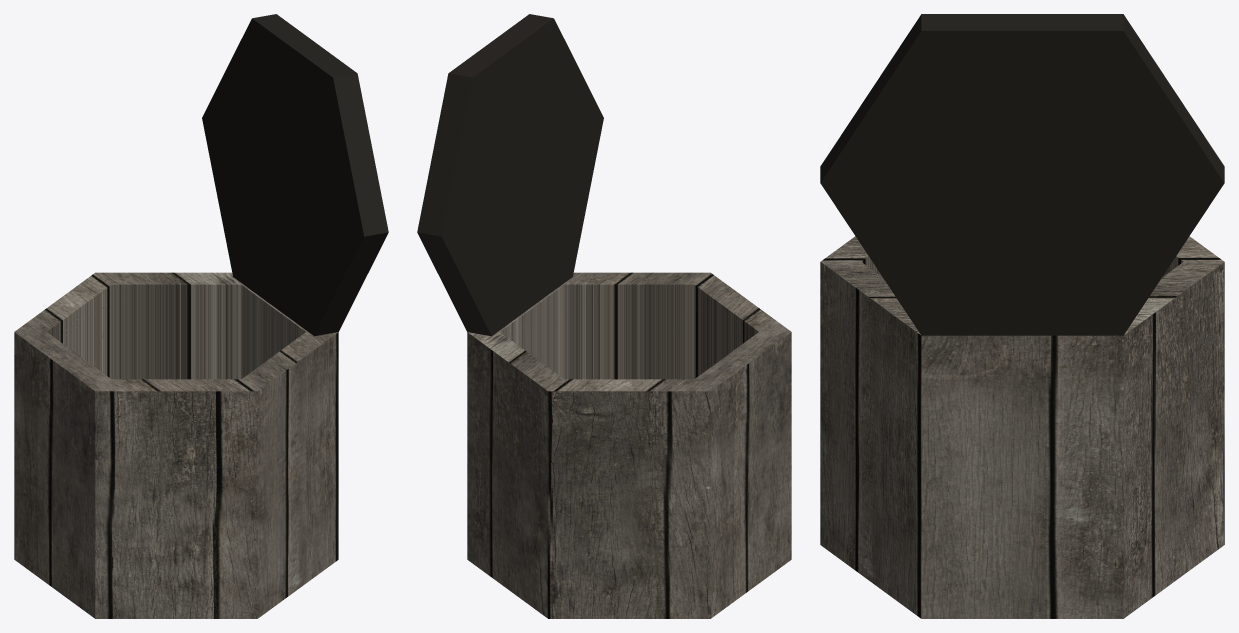
File: audioMaze_2.fbx
3 renders of one model, left to right at view 1: azimuth 30°, elevation 25°; view 2: azimuth 150°, elevation 25°; view 3: azimuth 270°, elevation 25°, orthographic. The views are drawn at different scales.
Visible parts, largest first — view 1: Cylinder.008, Cylinder.011, Cylinder.010; view 2: Cylinder.008, Cylinder.011, Cylinder.010; view 3: Cylinder.008, Cylinder.011, Cylinder.010.
Part boxes in pixels (box(x1,y1,x2,y2)): Cylinder.008: box(14, 302, 338, 618); Cylinder.011: box(202, 14, 388, 336); Cylinder.010: box(14, 272, 338, 408); Cylinder.008: box(467, 302, 791, 618); Cylinder.011: box(417, 14, 603, 336); Cylinder.010: box(467, 272, 791, 408); Cylinder.008: box(820, 271, 1224, 618); Cylinder.011: box(820, 14, 1224, 335); Cylinder.010: box(820, 236, 1224, 357).
Size of the model in its own units: 1205 by 2121 by 1291.
Materials: 2 (2 with a texture image).
